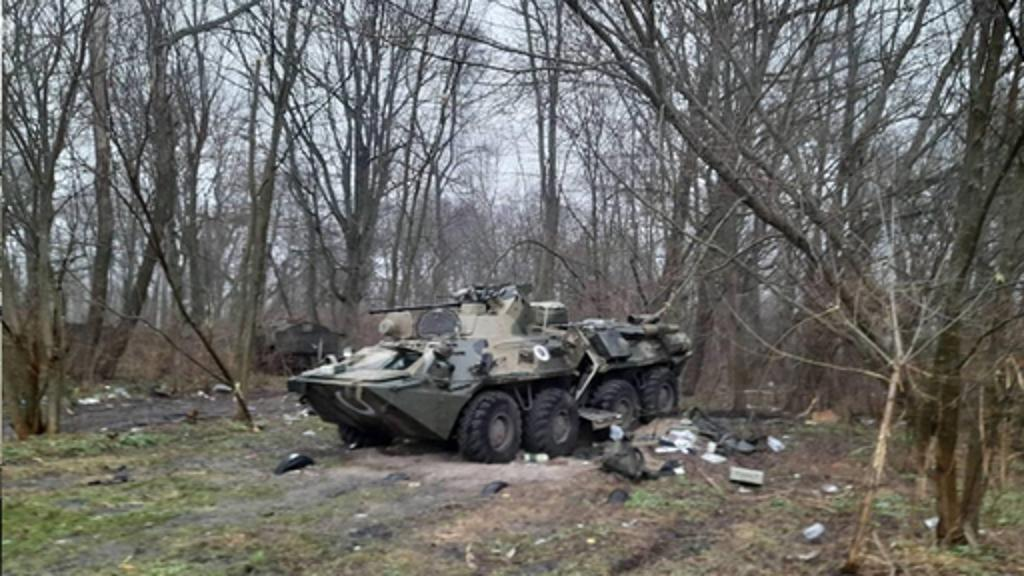APC-IFV: (286, 284, 696, 468)
